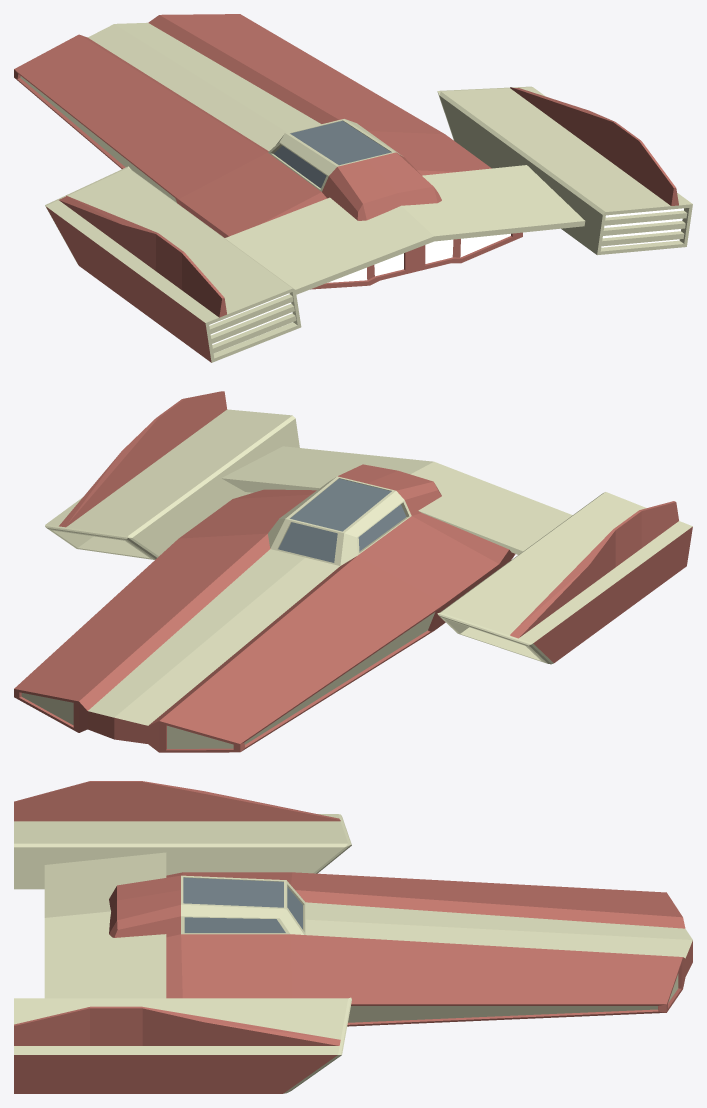
Rendered from spaceshiptest2.glb.
The picture shows the model from 3 angles, top to bottom: view 1: azimuth 30°, elevation 25°; view 2: azimuth 150°, elevation 25°; view 3: azimuth 270°, elevation 25°; orthographic projection.
Parts seen in each view (by area): view 1: Cube.001, Cube; view 2: Cube, Cube.001; view 3: Cube, Cube.001.
Part boxes in pixels (x1,y1,x2,y2): Cube.001: (45,86,692,362); Cube: (14,14,522,289); Cube: (14,464,515,752); Cube.001: (45,391,692,664); Cube: (109,872,692,1026); Cube.001: (14,781,351,1093).
Bounding box in the file's own units: 11.06 × 2.15 × 13.17.
